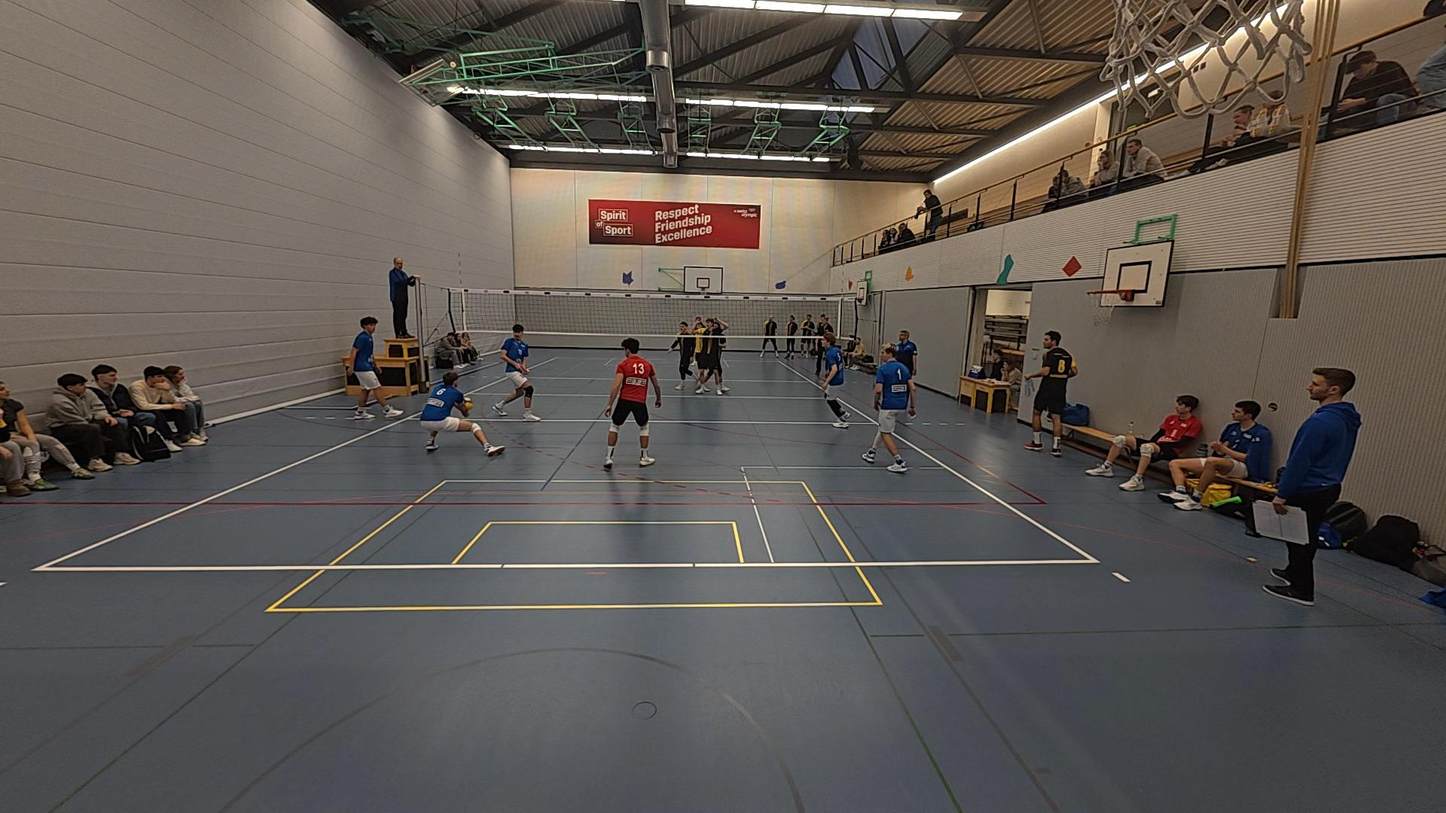ricezione: (419, 369, 506, 456)
